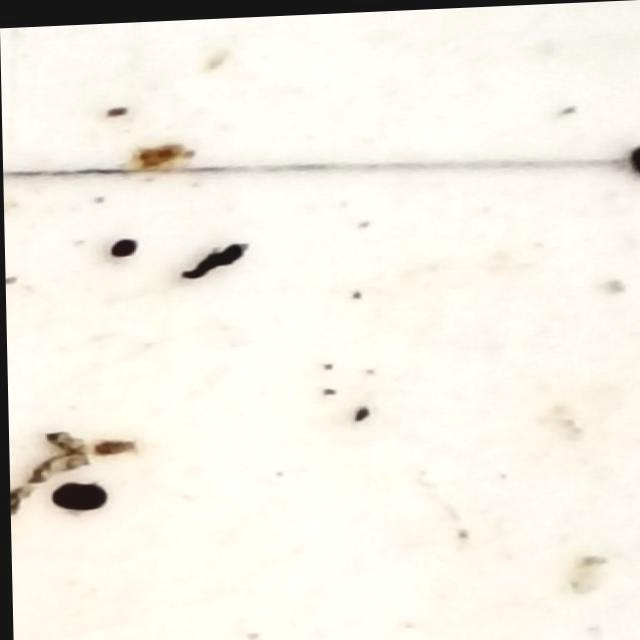varroa: (46, 477, 102, 511), (107, 233, 139, 255)
